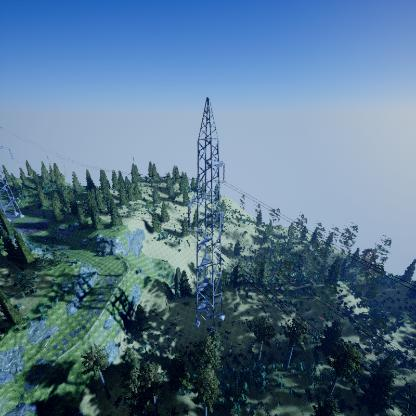tower: (187, 91, 228, 330)
